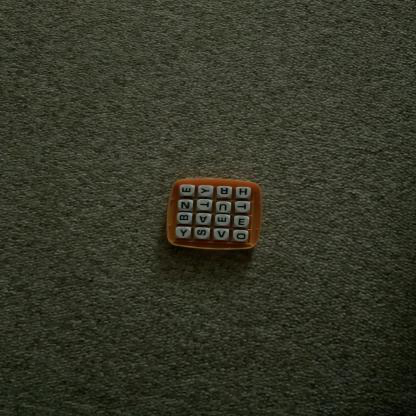a: (199, 214, 212, 225)
b: (179, 214, 193, 224)
e: (181, 186, 196, 197), (217, 215, 231, 226), (237, 217, 250, 228)
h: (238, 187, 252, 199)
n: (180, 201, 194, 212)
o: (236, 231, 250, 243)
r: (219, 187, 233, 198)
s: (196, 228, 210, 240)
t: (237, 203, 251, 213), (200, 200, 213, 210)
u: (219, 203, 231, 213)
v: (216, 229, 230, 241)
y: (177, 228, 193, 240), (200, 187, 213, 197)
